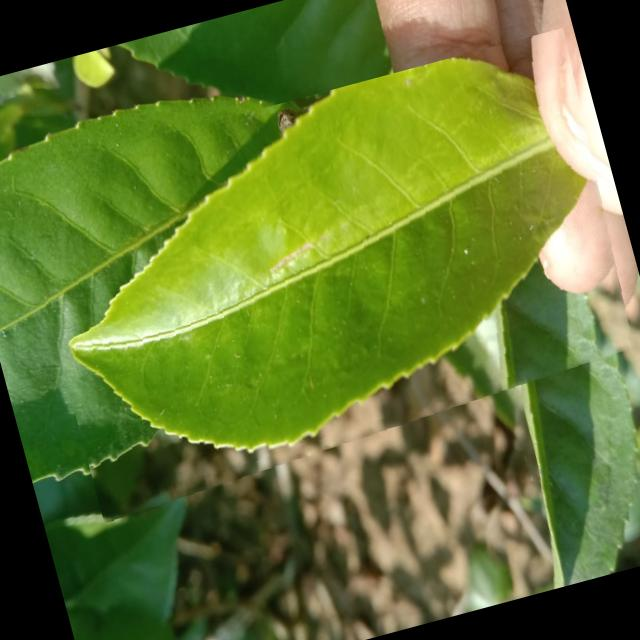Category B(2-4 days): (10, 26, 640, 523)
